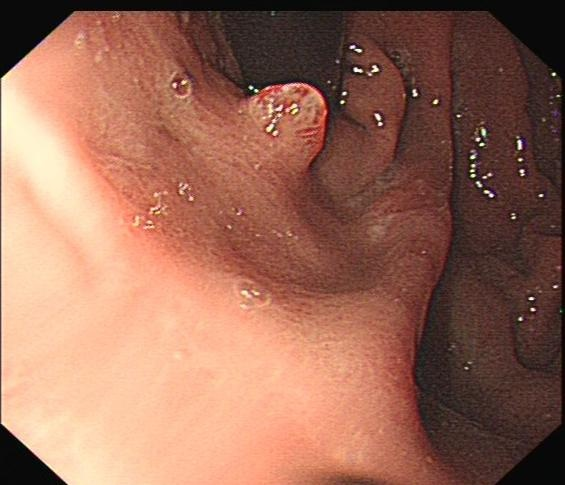Polyp: (236, 79, 321, 175)
